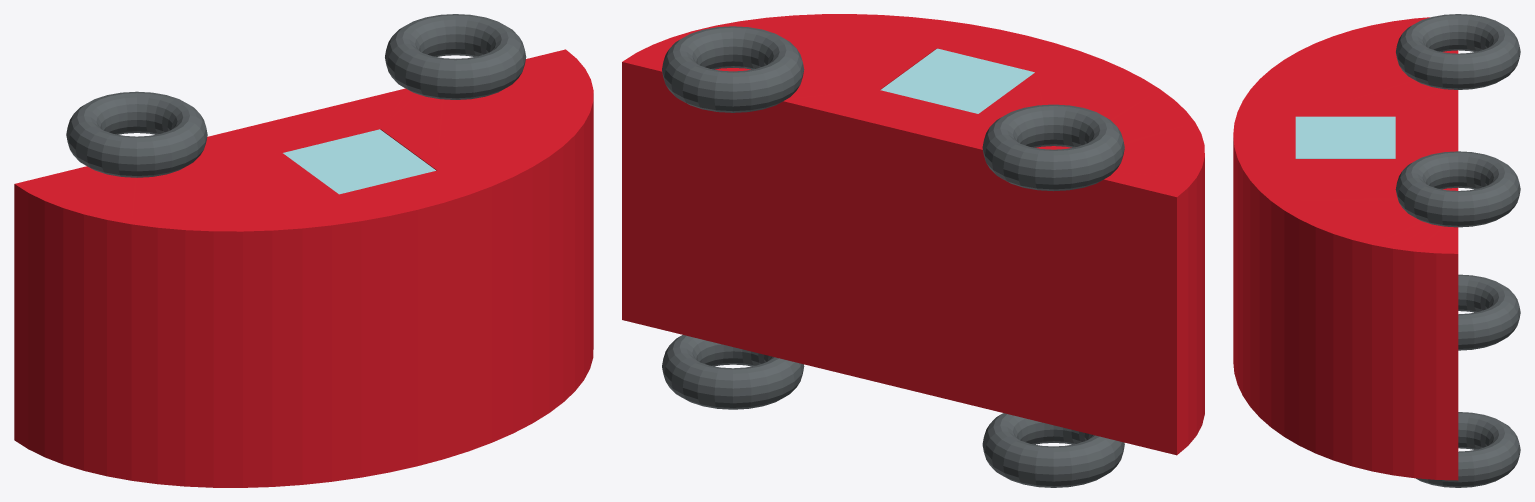
Rendered from tinker.obj.
3 renders of one model, left to right at view 1: azimuth 30°, elevation 25°; view 2: azimuth 150°, elevation 25°; view 3: azimuth 270°, elevation 25°, orthographic. The views are drawn at different scales.
Visible parts, largest first — view 1: group_0_15277357, group_0_6383466, group_0_11593967; view 2: group_0_15277357, group_0_6383466, group_0_11593967; view 3: group_0_15277357, group_0_6383466, group_0_11593967.
Part boxes in pixels (<box>): group_0_15277357: <box>14,49,593,487</box>; group_0_6383466: <box>66,14,526,177</box>; group_0_11593967: <box>283,129,435,194</box>; group_0_15277357: <box>622,14,1204,455</box>; group_0_6383466: <box>662,26,1124,487</box>; group_0_11593967: <box>880,48,1034,113</box>; group_0_15277357: <box>1233,17,1458,480</box>; group_0_6383466: <box>1395,14,1520,487</box>; group_0_11593967: <box>1295,116,1395,158</box>.
Size of the model in its own units: 45 by 26 by 23.
